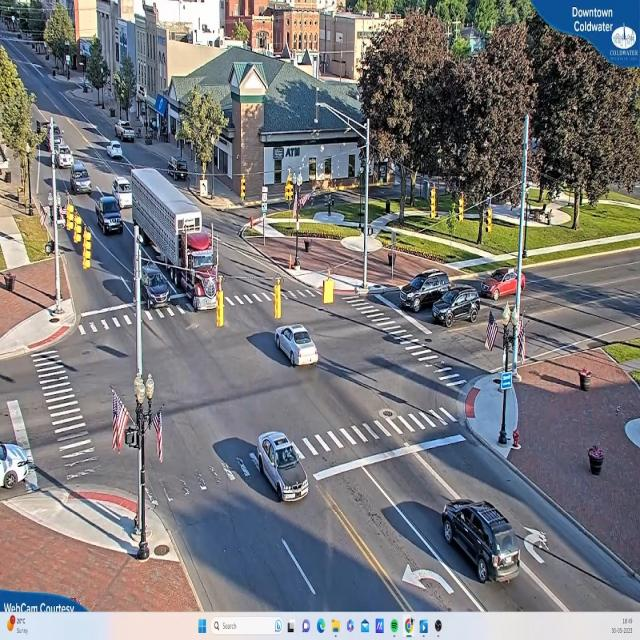car: (443, 499, 523, 587), (258, 431, 311, 502), (401, 272, 455, 313), (276, 324, 320, 368), (432, 289, 480, 327), (0, 444, 39, 489), (482, 270, 528, 303), (139, 262, 169, 311), (94, 194, 124, 232), (73, 163, 93, 194)
truck: (176, 206, 216, 316)
